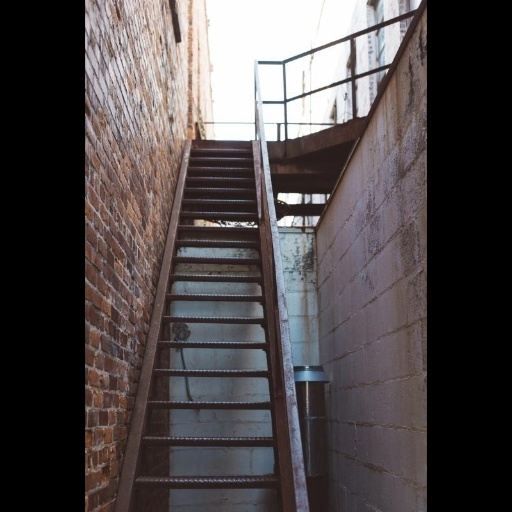Stairs: (116, 141, 309, 512)
